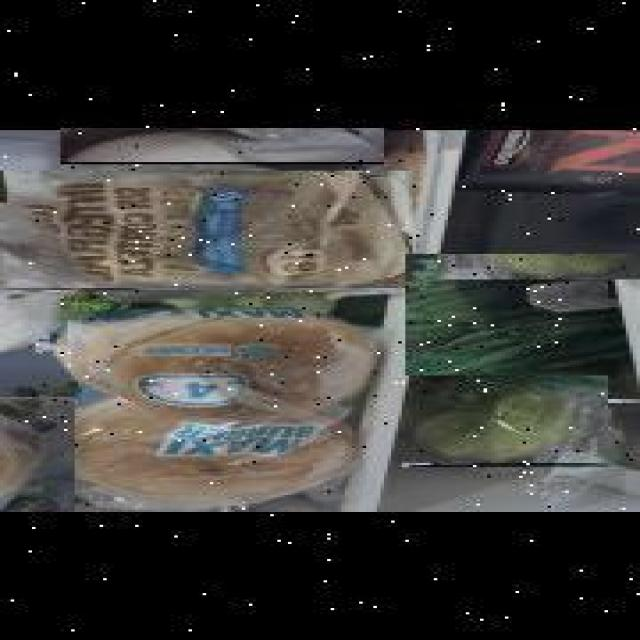bread: (0, 170, 412, 290)
green_beans: (405, 254, 640, 403)
milk: (60, 128, 384, 164)
pineapple: (0, 397, 75, 512)
salad: (402, 376, 608, 465)
